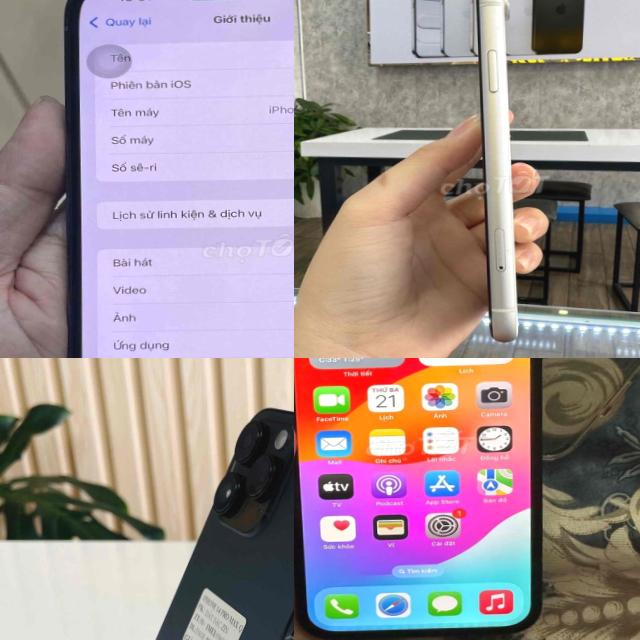gen_12_13: (58, 0, 294, 358), (294, 358, 566, 640)
gen_14: (80, 401, 294, 640)
gen_x_xs: (475, 0, 518, 341)
